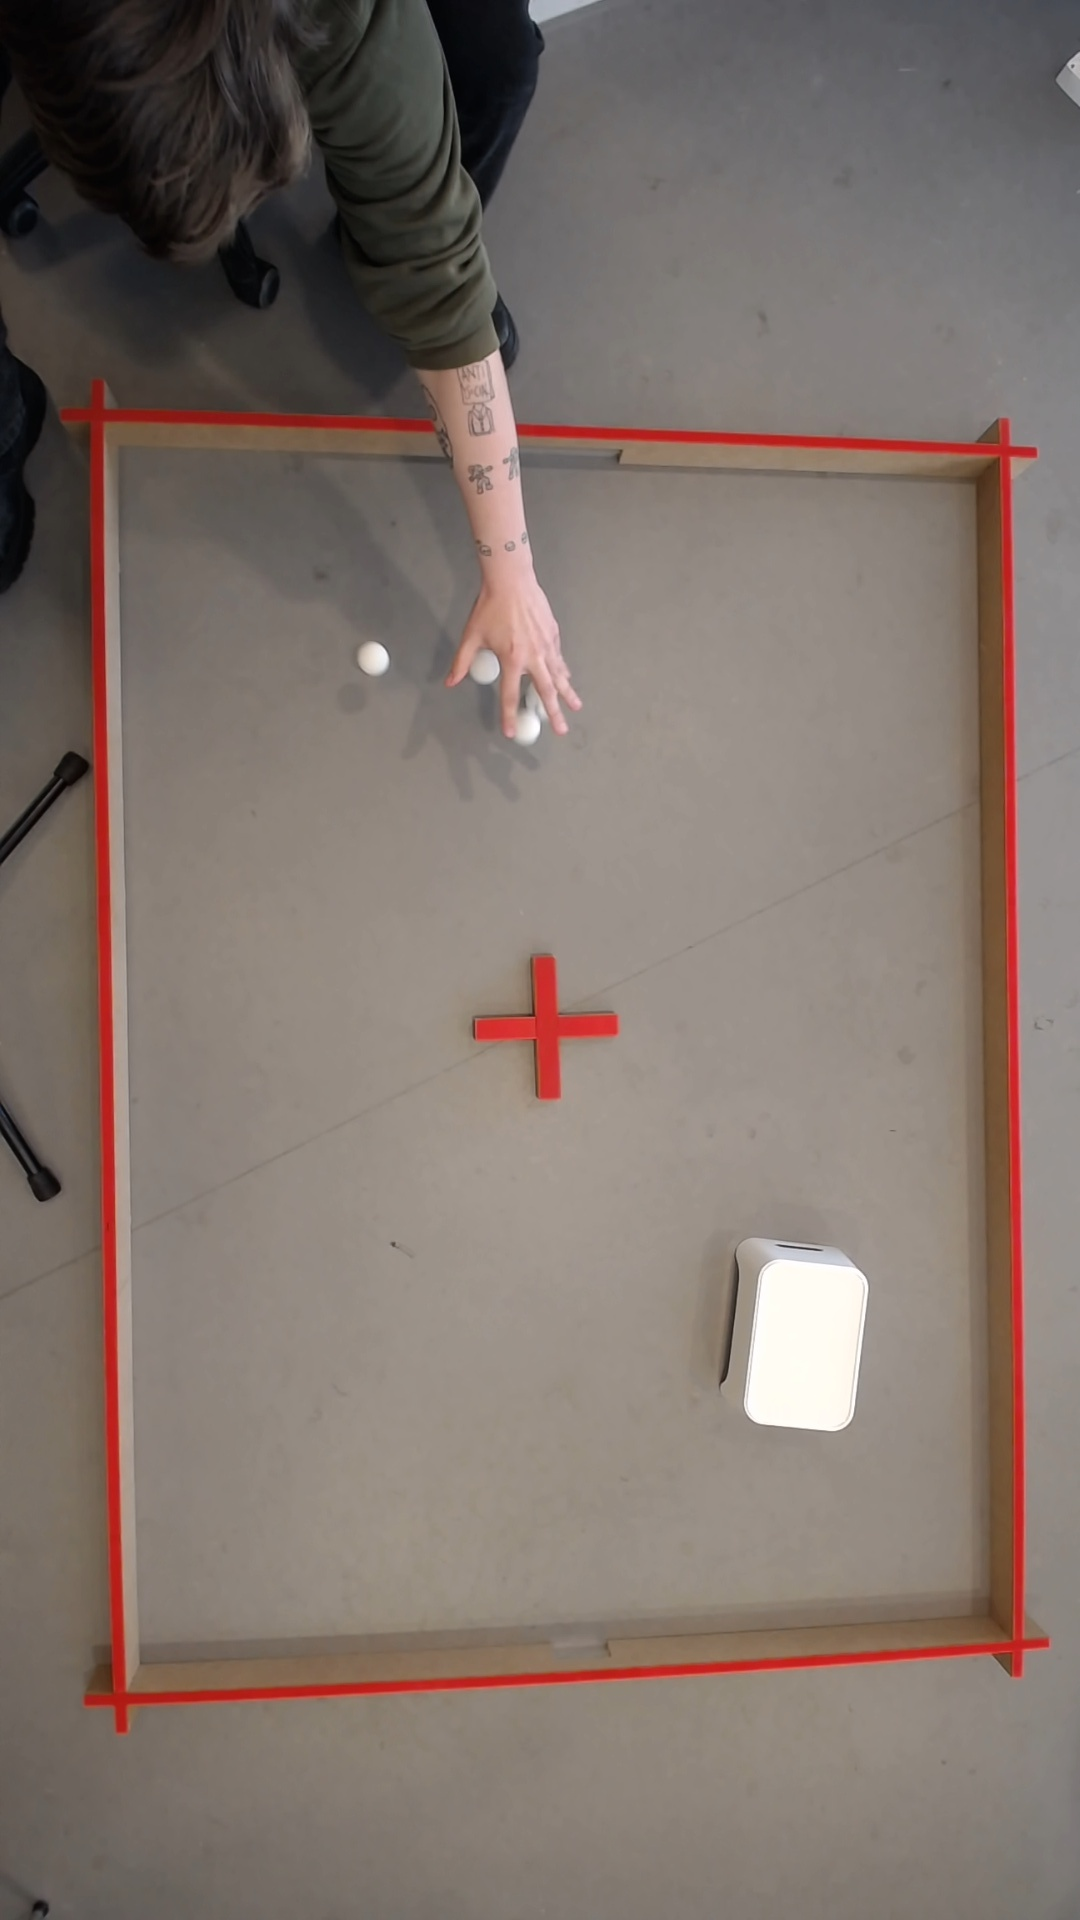balls: (356, 638, 392, 675), (513, 708, 546, 745), (475, 657, 504, 684), (471, 359, 491, 392)
car: (534, 646, 551, 684)
